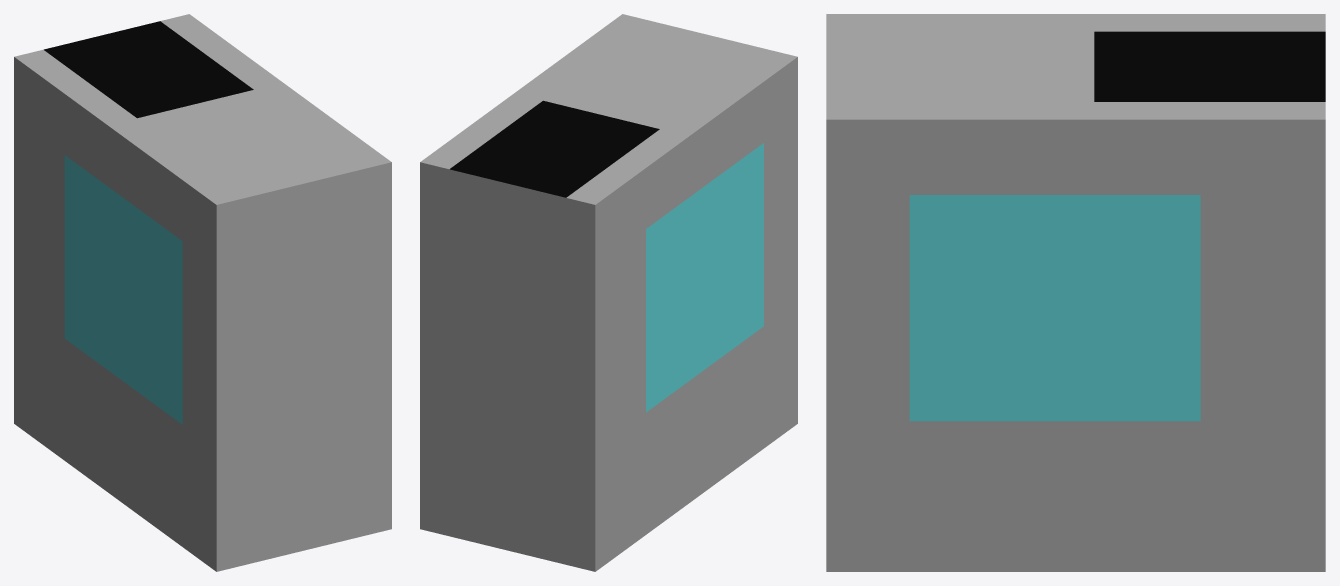
Rendered from medicine_box_2.dae.
3 views of the same model, side by side, from view 1: azimuth 30°, elevation 25°; view 2: azimuth 150°, elevation 25°; view 3: azimuth 270°, elevation 25° (orthographic). The views are drawn at different scales.
Parts seen in each view (by area): view 1: Cube 2; view 2: Cube 2; view 3: Cube 2.
Boxes of the visible parts, x1,y1,x2,y2 form: Cube 2: [14, 14, 391, 571]; Cube 2: [420, 14, 797, 571]; Cube 2: [826, 14, 1325, 571].
Bounding box in the file's own units: 0.03 × 0.06 × 0.06.
